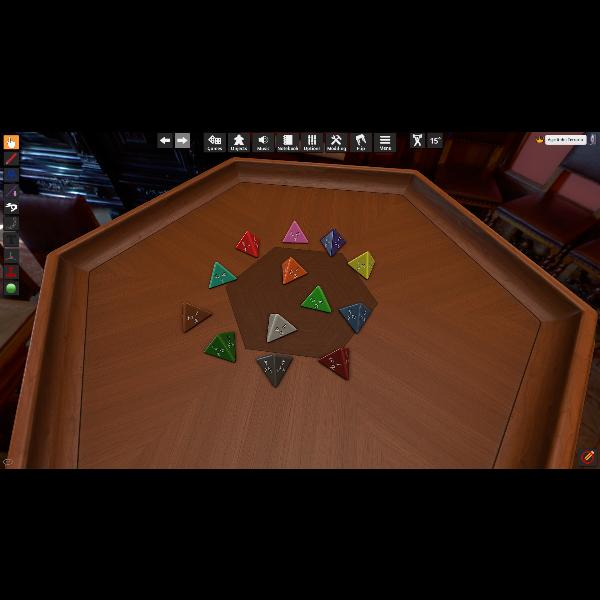d4: (256, 353, 292, 387), (318, 348, 350, 380), (340, 301, 371, 333), (204, 330, 234, 362), (267, 312, 297, 342), (182, 301, 210, 332), (208, 261, 236, 289), (301, 286, 331, 312), (348, 251, 374, 279), (320, 229, 344, 257), (282, 256, 306, 284), (235, 230, 259, 258), (282, 220, 308, 244)
